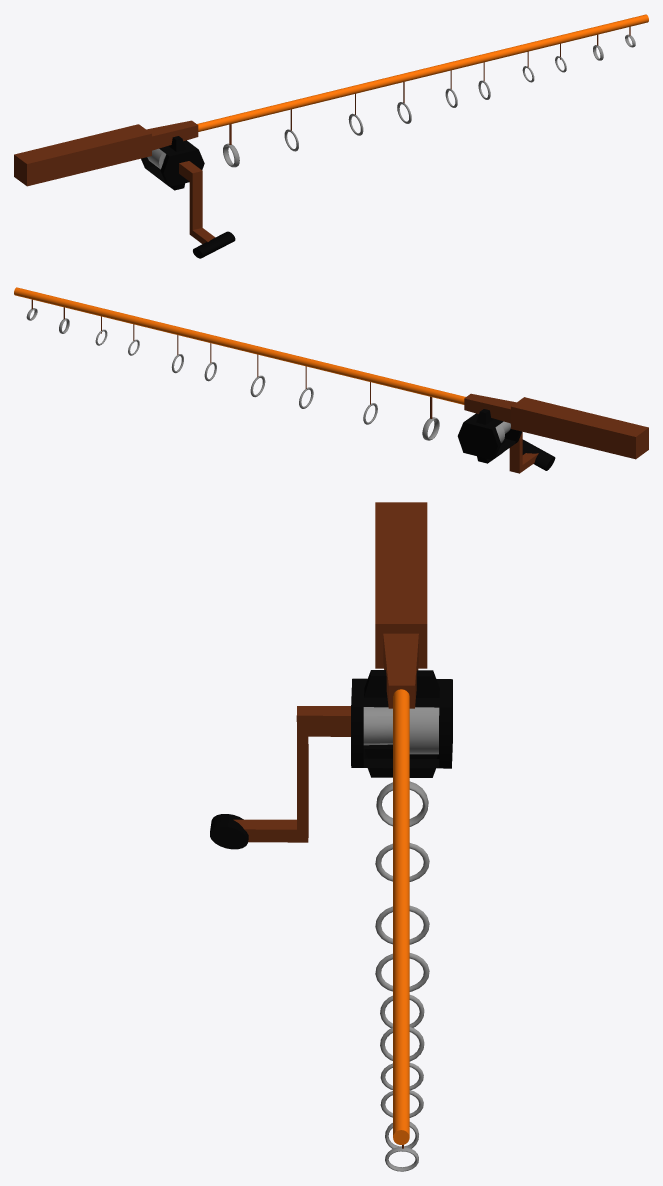
Rendered from fishingRod.obj.
3 views of the same model, one above another, from view 1: azimuth 30°, elevation 25°; view 2: azimuth 150°, elevation 25°; view 3: azimuth 270°, elevation 25° (orthographic). The views are drawn at different scales.
Parts seen in each view (by area): view 1: polySurface81; view 2: polySurface81; view 3: polySurface81.
Boxes of the visible parts, x1,y1,x2,y2 form: polySurface81: (14, 14, 648, 258); polySurface81: (14, 287, 648, 473); polySurface81: (210, 502, 452, 1171).
Size of the model in its own units: 21.51 by 3.32 by 3.62.
